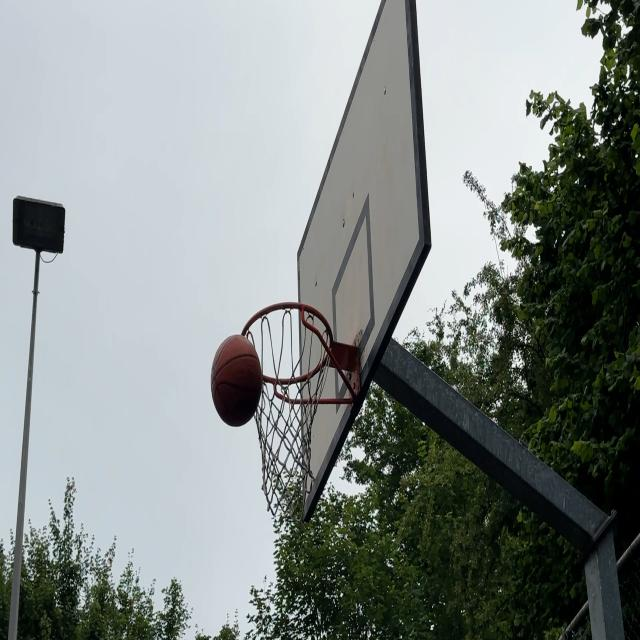Basketball: (209, 336, 259, 429)
